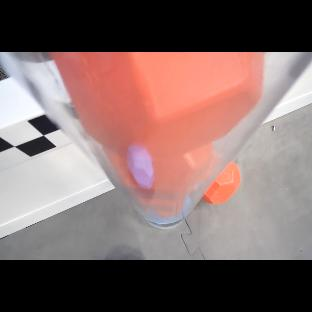Loader: (0, 52, 312, 229)
V5_RED: (202, 162, 240, 205)
redloader: (52, 52, 265, 151), (107, 152, 214, 192), (135, 193, 192, 219)
